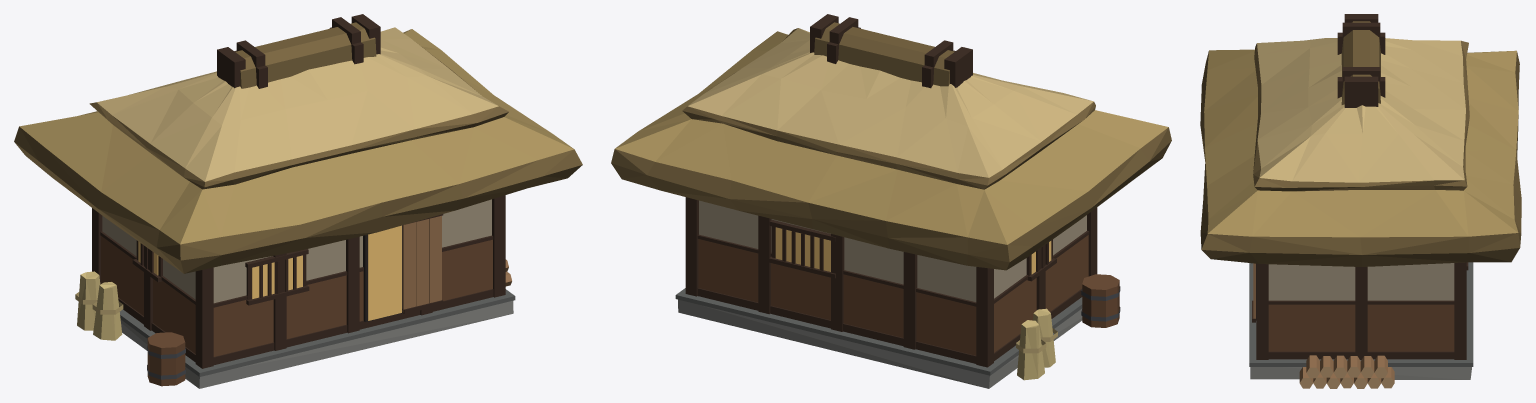
File: house_farmer_a.fbx
The picture shows the model from 3 angles, left to right: view 1: azimuth 30°, elevation 25°; view 2: azimuth 150°, elevation 25°; view 3: azimuth 270°, elevation 25°; orthographic projection. The views are drawn at different scales.
Parts seen in each view (by area): view 1: house_farmer_a; view 2: house_farmer_a; view 3: house_farmer_a.
Boxes of the visible parts, <box> form: house_farmer_a: <box>14,14,582,388</box>; house_farmer_a: <box>611,14,1171,388</box>; house_farmer_a: <box>1200,14,1521,388</box>.
Size of the model in its own units: 7.16 by 4.64 by 5.2.
